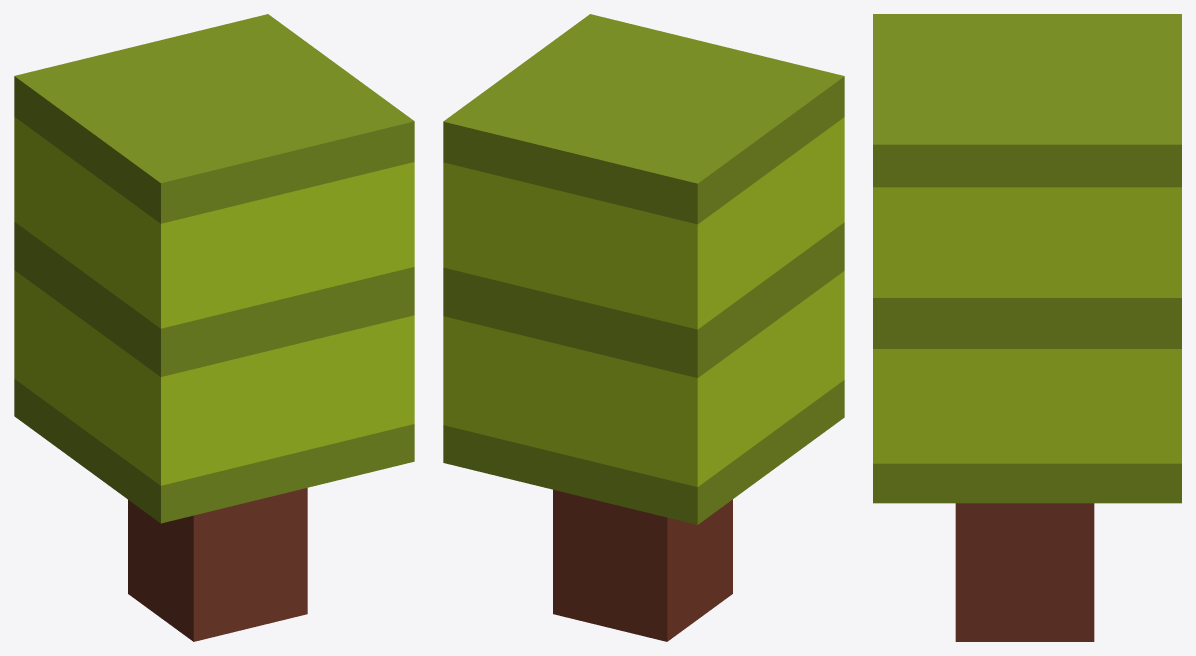
Rendered from tree-medium-2.glb.
3 renders of one model, left to right at view 1: azimuth 30°, elevation 25°; view 2: azimuth 150°, elevation 25°; view 3: azimuth 270°, elevation 25°, orthographic. The views are drawn at different scales.
Parts seen in each view (by area): view 1: Cube.095; view 2: Cube.095; view 3: Cube.095.
Boxes of the visible parts, x1=… form: Cube.095: x1=14, y1=14, x2=414, y2=641; Cube.095: x1=443, y1=14, x2=844, y2=641; Cube.095: x1=873, y1=14, x2=1181, y2=641.
Bounding box in the file's own units: 4.46 × 8.48 × 4.46.
